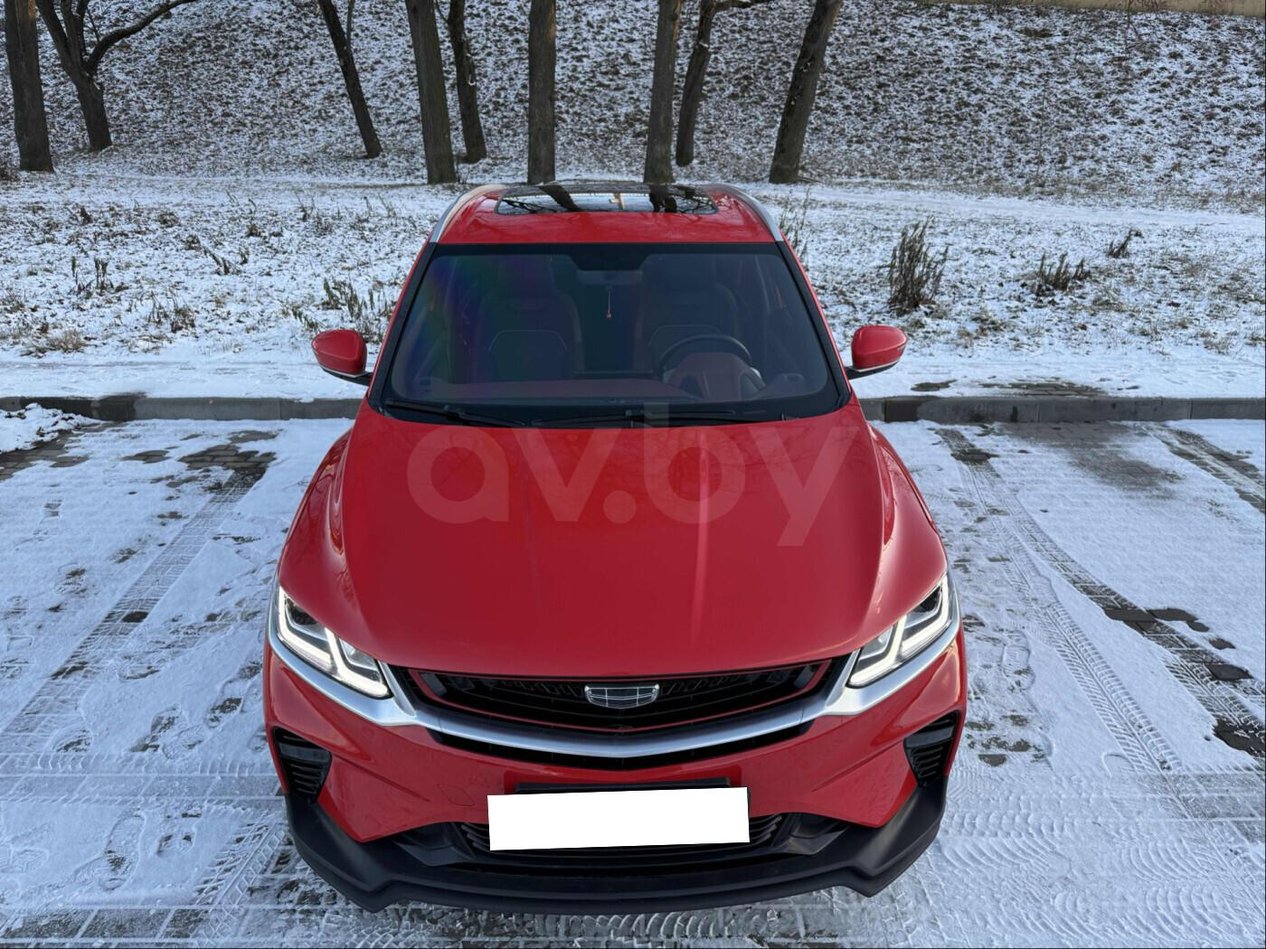Coolray_2019-2023: (253, 176, 974, 903)
